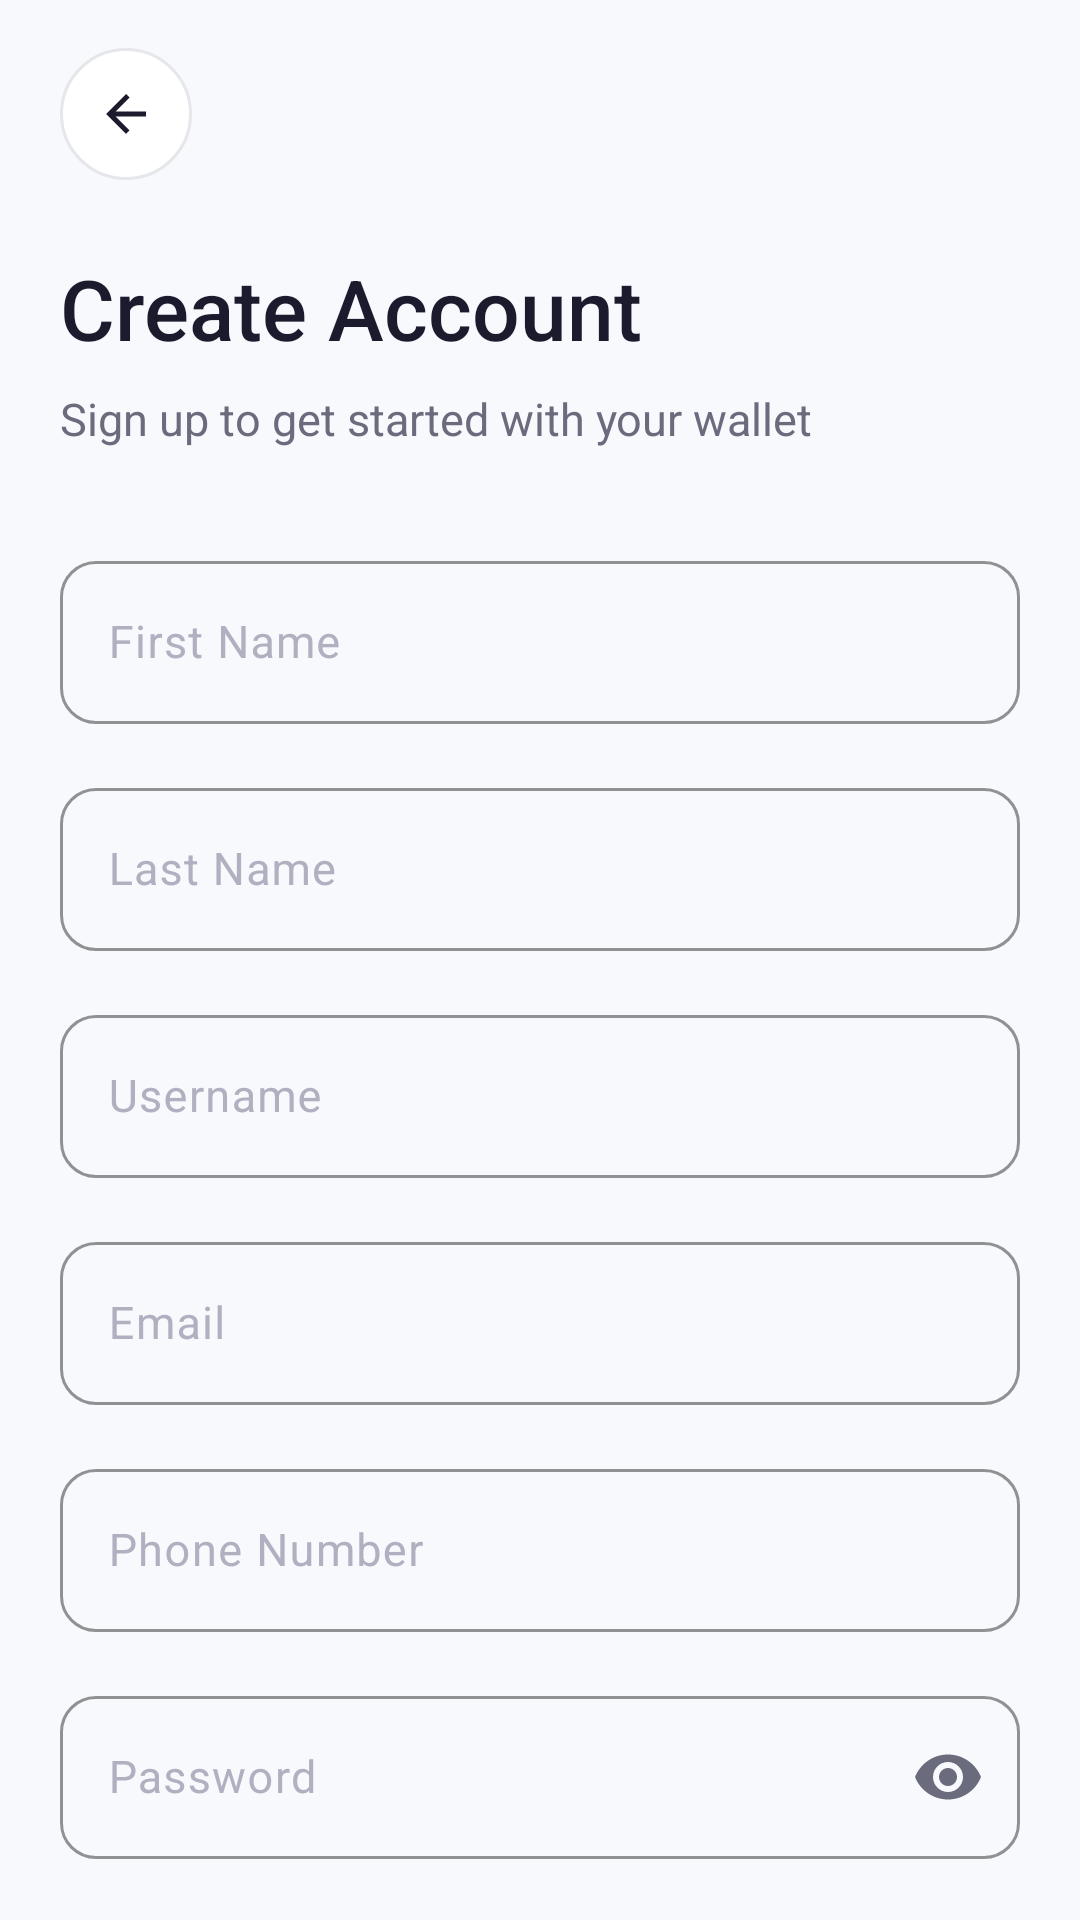

Screen size 1080 × 1920. Icon name, then its box in pixels as (x1, y1, x2, y2):
arrow back: (106, 94, 146, 134)
